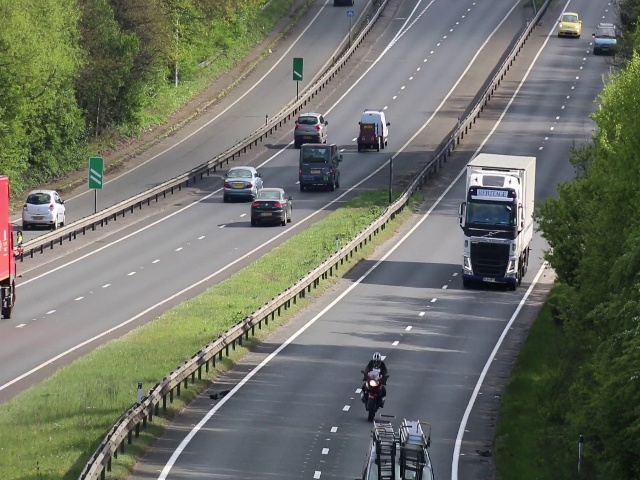car: (461, 180, 525, 289), (21, 188, 66, 231), (299, 143, 340, 189), (358, 107, 391, 151), (251, 190, 292, 223), (224, 165, 263, 199), (293, 109, 329, 144), (557, 13, 582, 37), (595, 26, 614, 50)
